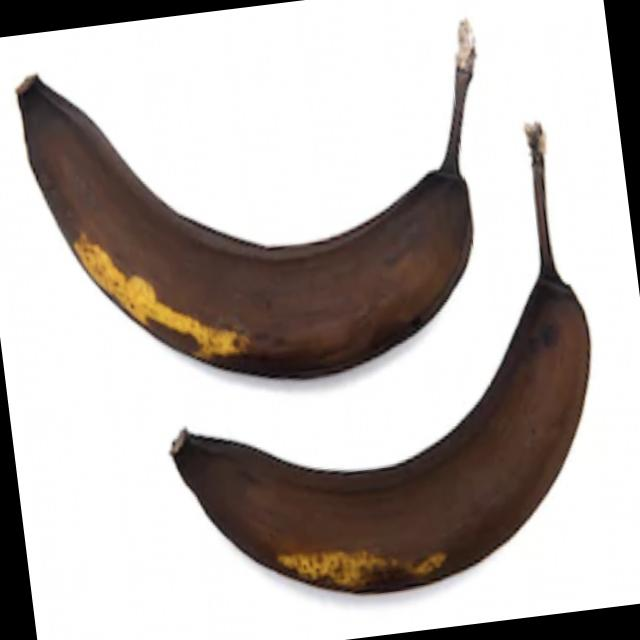rotten-banana: (0, 12, 494, 405), (182, 336, 612, 616)
